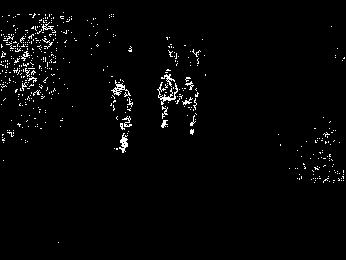person: (108, 78, 139, 151), (181, 73, 204, 137), (157, 67, 173, 131)
